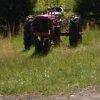Tractor: (15, 3, 84, 51)
